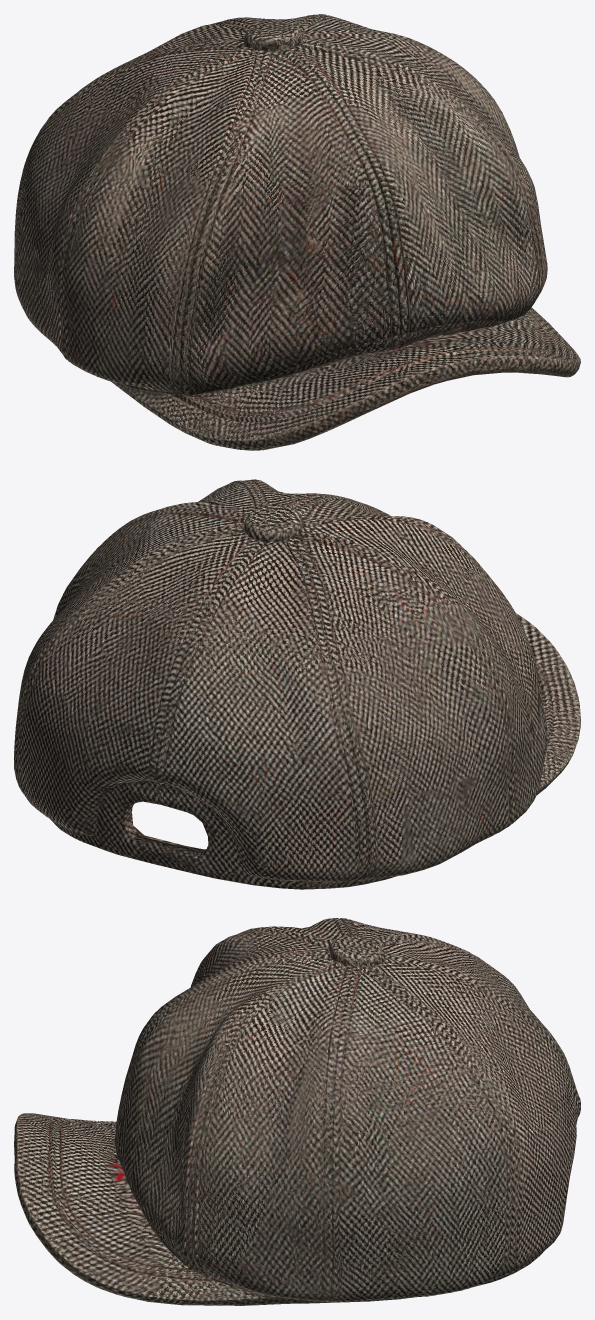
File: mk_newsboy.glb
3 views of the same model, one above another, from view 1: azimuth 30°, elevation 25°; view 2: azimuth 150°, elevation 25°; view 3: azimuth 270°, elevation 25° (orthographic). The views are drawn at different scales.
Size of the model in its own units: 1.66 by 1.03 by 1.9.
Materials: 1 (1 with a texture image).
